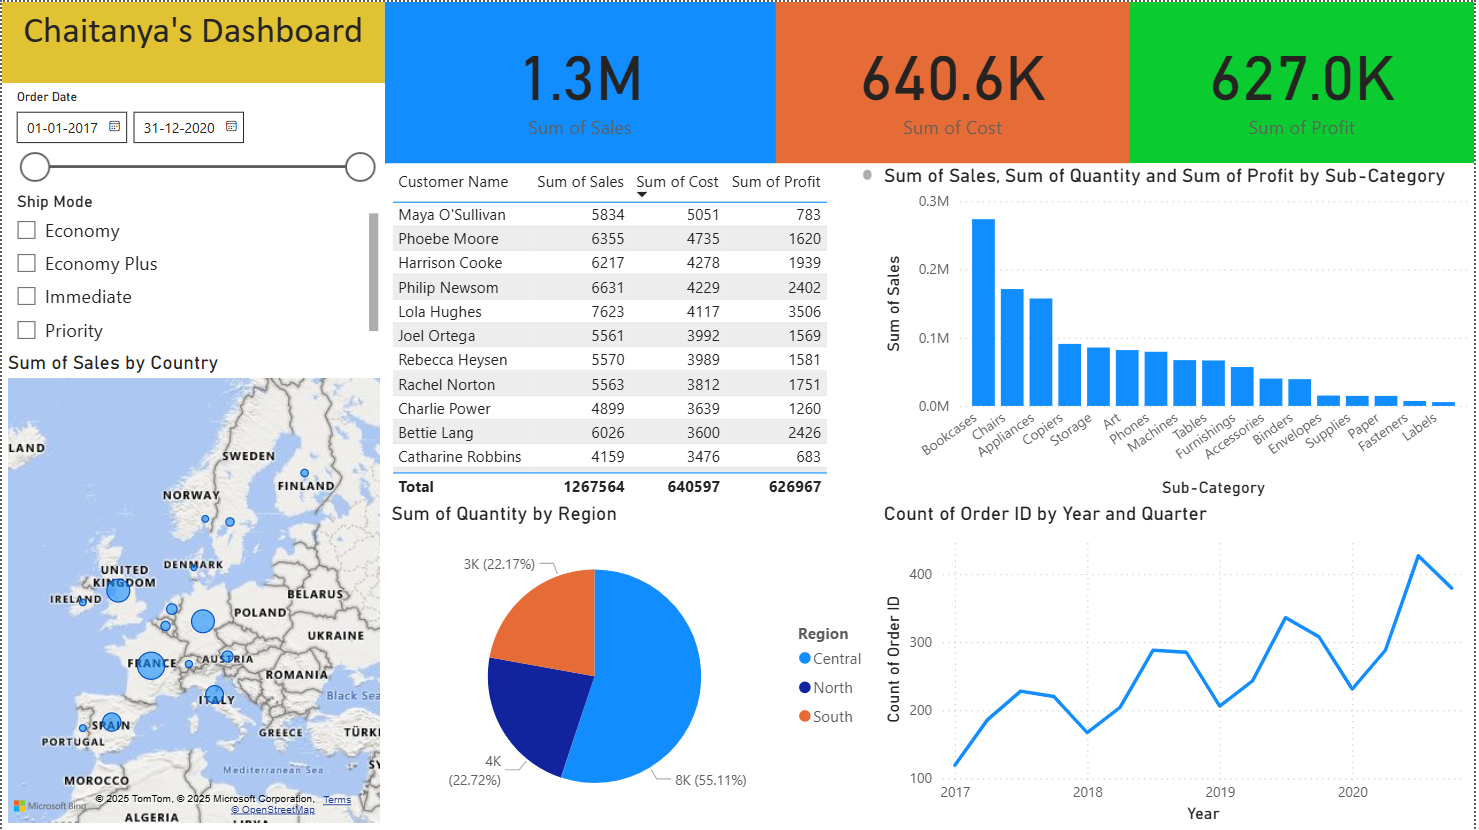

This screenshot's page, from the dashboard's own definition file:
{"tool":"powerbi","page":{"name":"Page 1","canvas":[1280,720],"ordinal":0},"visuals":[{"type":"card","fields":{"Values":["List of Orders.Sales"]},"box":[332.4,0,340.5,140.5],"z":0},{"type":"card","fields":{"Values":["List of Orders.Cost"]},"box":[673,0,308.1,140.5],"z":1000},{"type":"card","fields":{"Values":["List of Orders.Profit"]},"box":[980,0,300,140],"z":2000},{"type":"tableEx","fields":{"Values":["List of Orders.Customer Name","List of Orders.Sales","List of Orders.Cost","List of Orders.Profit"]},"box":[333.8,140,428.5,295],"z":3000},{"type":"clusteredColumnChart","fields":{"Y":["List of Orders.Sales"],"Category":["List of Orders.Sub-Category"]},"box":[762.3,140,516.8,295],"z":4000},{"type":"lineChart","fields":{"Y":["List of Orders.Order ID"],"Category":["List of Orders.Order Date.Variation.Date Hierarchy.Year","List of Orders.Order Date.Variation.Date Hierarchy.Quarter"]},"box":[762.3,435,516.8,284.3],"z":5000},{"type":"pieChart","fields":{"Y":["List of Orders.Quantity"],"Category":["List of Orders.Region"]},"box":[333.8,435,428.5,284.3],"z":6000},{"type":"map","fields":{"Category":["List of Orders.Country"],"Size":["List of Orders.Sales"]},"box":[0,303.6,333.8,415.6],"z":7000},{"type":"textbox","box":[0,0,332.4,70.3],"z":8000},{"type":"slicer","fields":{"Values":["List of Orders.Ship Mode"]},"box":[0,159.5,332.4,143.2],"z":9000},{"type":"slicer","fields":{"Values":["List of Orders.Order Date"]},"box":[0,70.3,332.4,89.2],"z":10000}]}

Visuals, with their boxes in screenshot pixels (x1, y1, x2, y2), scaled from the page's 1280x720 canvas onto the 1479x830 screenshot:
card - List of Orders.Sales: left=384, top=0, right=778, bottom=162
card - List of Orders.Cost: left=778, top=0, right=1134, bottom=162
card - List of Orders.Profit: left=1132, top=0, right=1478, bottom=161
tableEx - List of Orders.Customer Name x List of Orders.Sales: left=386, top=161, right=881, bottom=501
clusteredColumnChart - List of Orders.Sales x List of Orders.Sub-Category: left=881, top=161, right=1478, bottom=501
lineChart - List of Orders.Order ID x List of Orders.Order Date.Variation.Date Hierarchy.Year: left=881, top=501, right=1478, bottom=829
pieChart - List of Orders.Quantity x List of Orders.Region: left=386, top=501, right=881, bottom=829
map - List of Orders.Country x List of Orders.Sales: left=0, top=350, right=386, bottom=829
textbox: left=0, top=0, right=384, bottom=81
slicer - List of Orders.Ship Mode: left=0, top=184, right=384, bottom=349
slicer - List of Orders.Order Date: left=0, top=81, right=384, bottom=184
